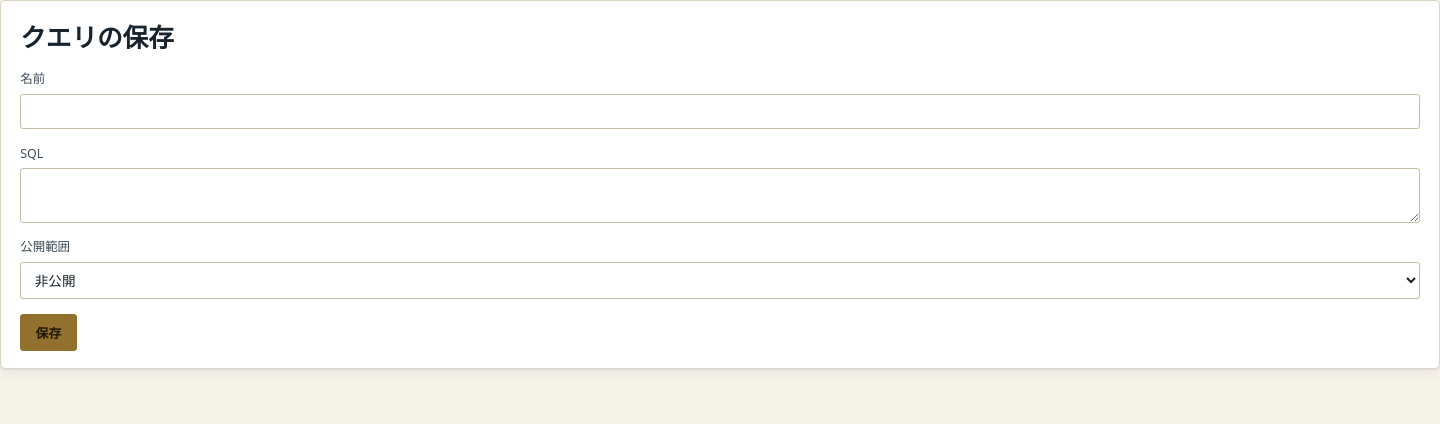
SavedQuerySaveForm › shows an error message when saving fails
The width and height of the screenshot is (1440, 424).
Click the button with test id "saved-query-save-form-submit-button" at (48, 332), box [20,314,77,351]
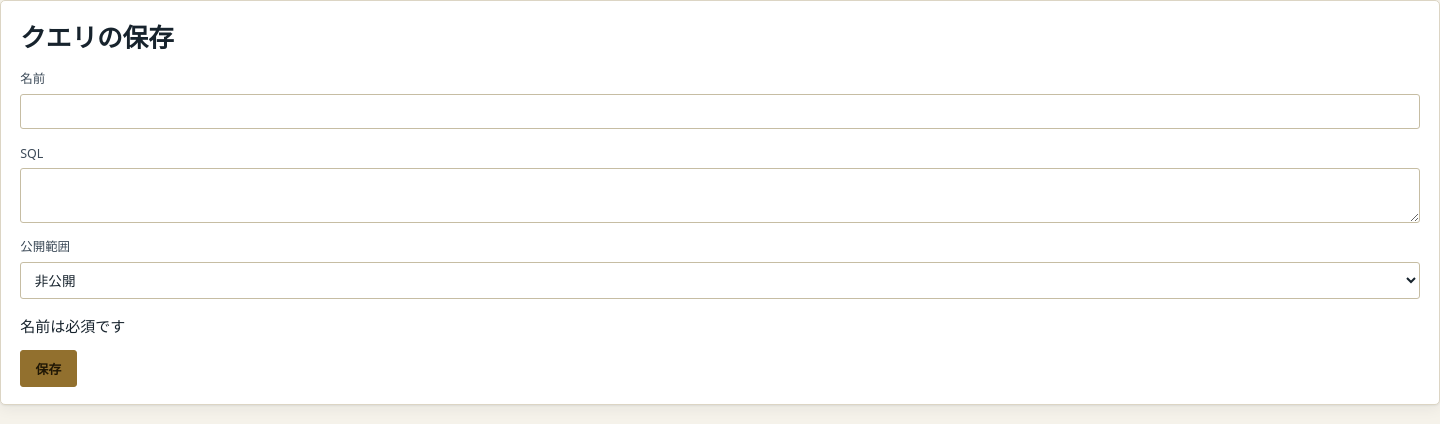
Expected: the message with test id "saved-query-save-form-error" reads "名前は必須です", [20,316,125,336]
